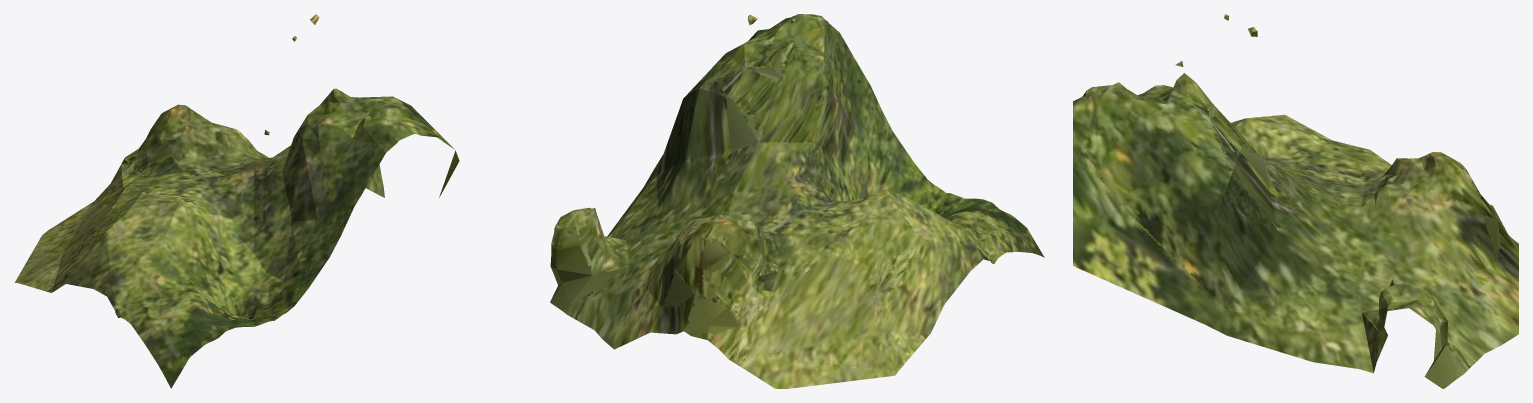
The picture shows the model from 3 angles, left to right: view 1: azimuth 30°, elevation 25°; view 2: azimuth 150°, elevation 25°; view 3: azimuth 270°, elevation 25°; orthographic projection. The views are drawn at different scales.
Size of the model in its own units: 2.95 by 2.16 by 2.95.
3 materials, 3 textured.
